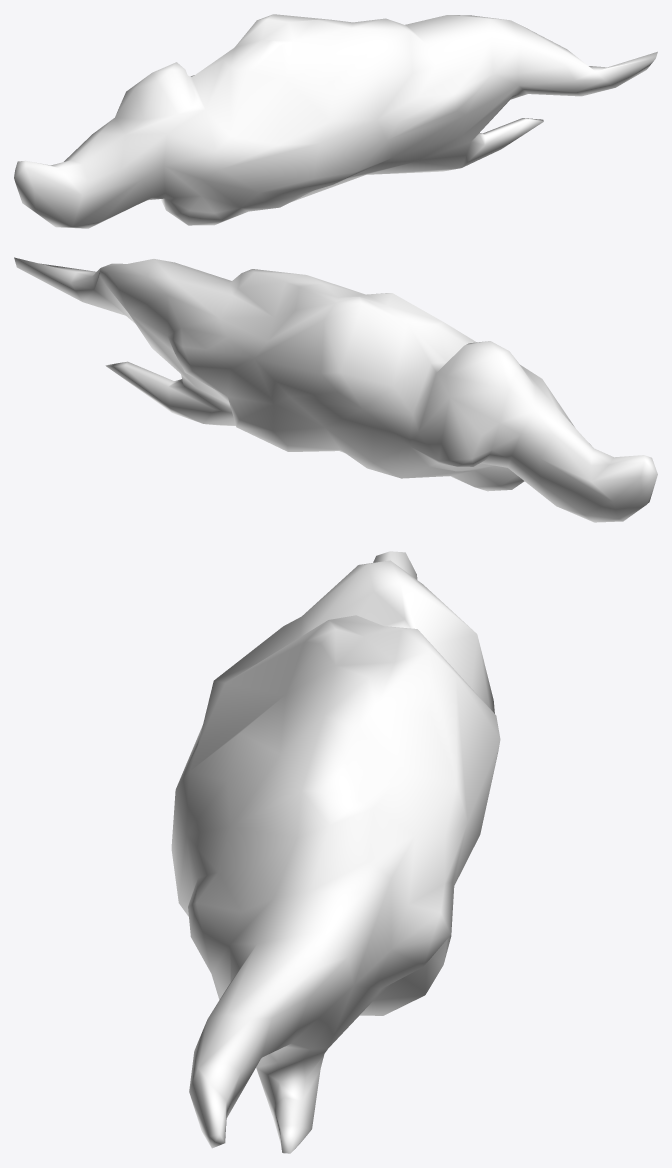
Rendered from Cloud4.fbx.
3 renders of one model, top to bottom at view 1: azimuth 30°, elevation 25°; view 2: azimuth 150°, elevation 25°; view 3: azimuth 270°, elevation 25°, orthographic. The views are drawn at different scales.
Visible parts, largest first — view 1: Cloud4; view 2: Cloud4; view 3: Cloud4.
Boxes of the visible parts, box(x1,y1,x2,y2) form: Cloud4: box(14, 14, 657, 228); Cloud4: box(14, 257, 657, 522); Cloud4: box(171, 551, 500, 1153).
Size of the model in its own units: 515 by 138 by 122.
Materials: 1 (1 with a texture image).
